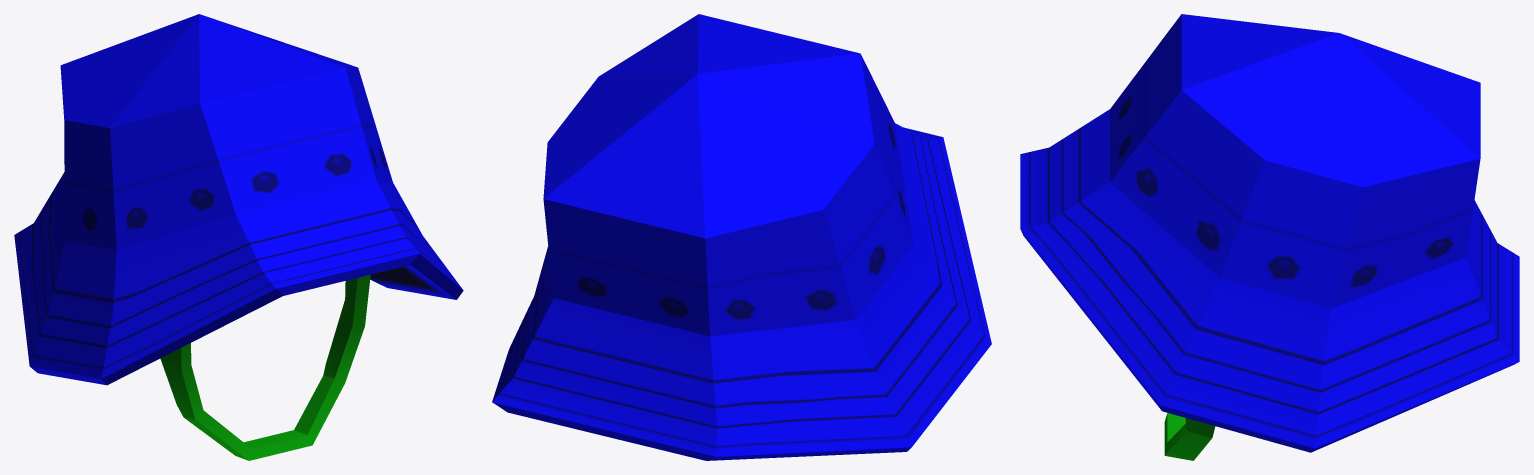
File: KettleHat_F.fbx
3 renders of one model, left to right at view 1: azimuth 30°, elevation 25°; view 2: azimuth 150°, elevation 25°; view 3: azimuth 270°, elevation 25°, orthographic. The views are drawn at different scales.
Parts seen in each view (by area): view 1: KettleHat_F; view 2: KettleHat_F; view 3: KettleHat_F.
Boxes of the visible parts, x1,y1,x2,y2 form: KettleHat_F: (14,14,463,460); KettleHat_F: (492,14,991,460); KettleHat_F: (1020,14,1519,460).
Size of the model in its own units: 33.47 by 33.94 by 37.31.
